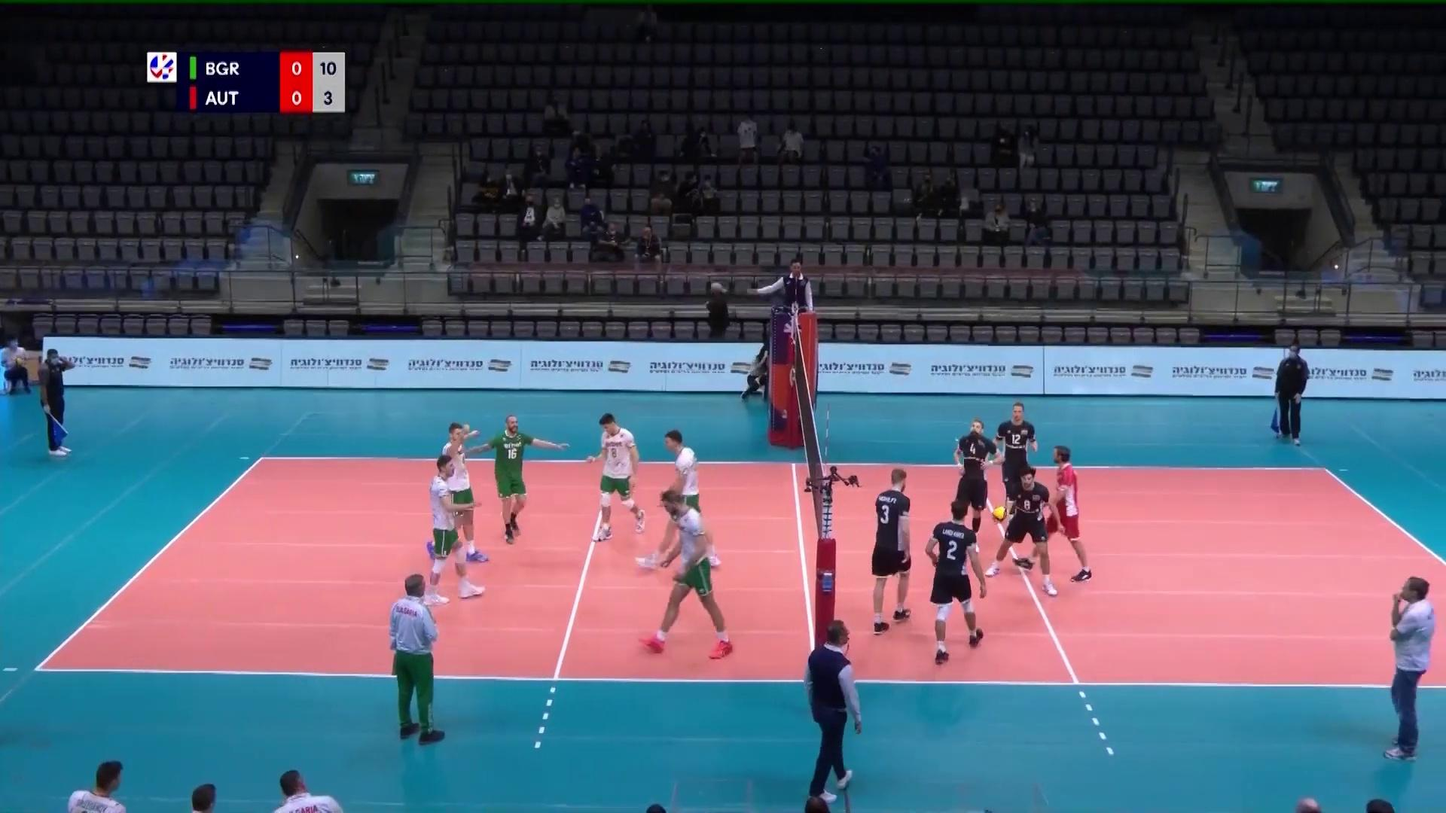ball: (992, 505, 1008, 522)
